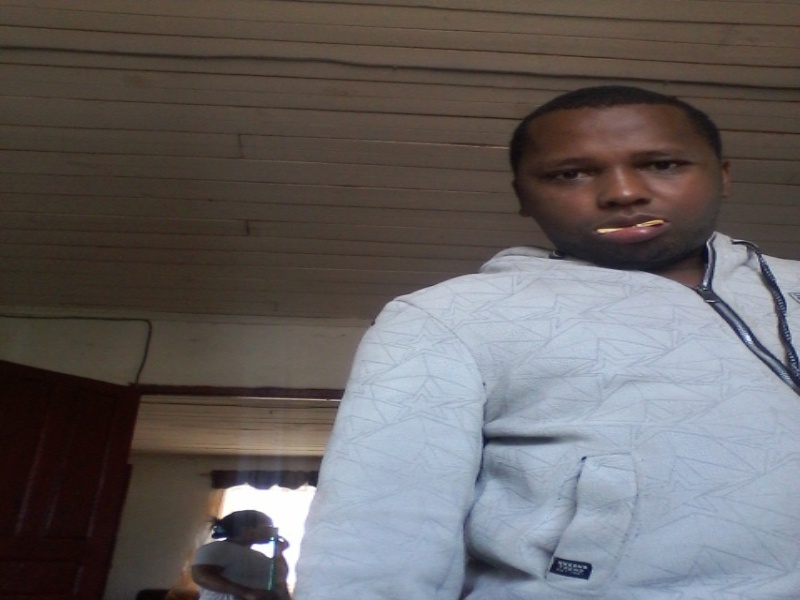TsisyArotava: (510, 81, 726, 272)
